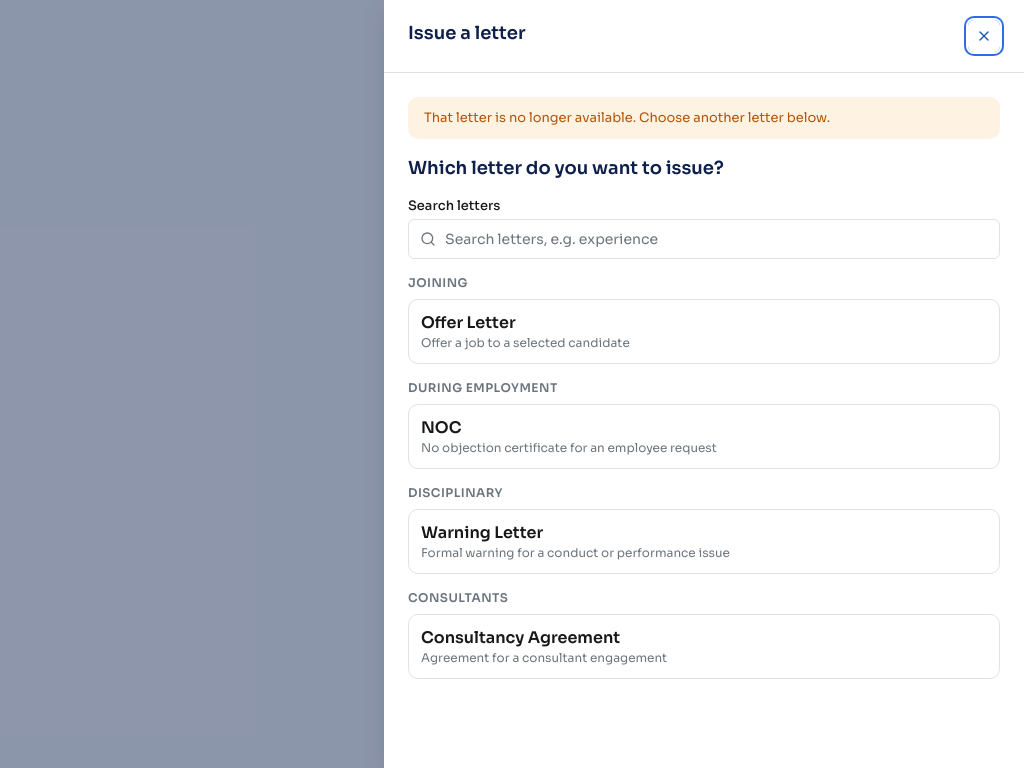
it: choosing a letter › explains an unavailable template and falls back to the chooser
This screenshot has width=1024, height=768.
Expected: the text "That letter is no longer available. Choose another letter below." is shown, [408, 97, 1000, 139]
Expected: the heading "Which letter do you want to issue?" is shown, [408, 157, 724, 179]
Click the button "Warning Letter" at (482, 532), box [408, 509, 1000, 574]
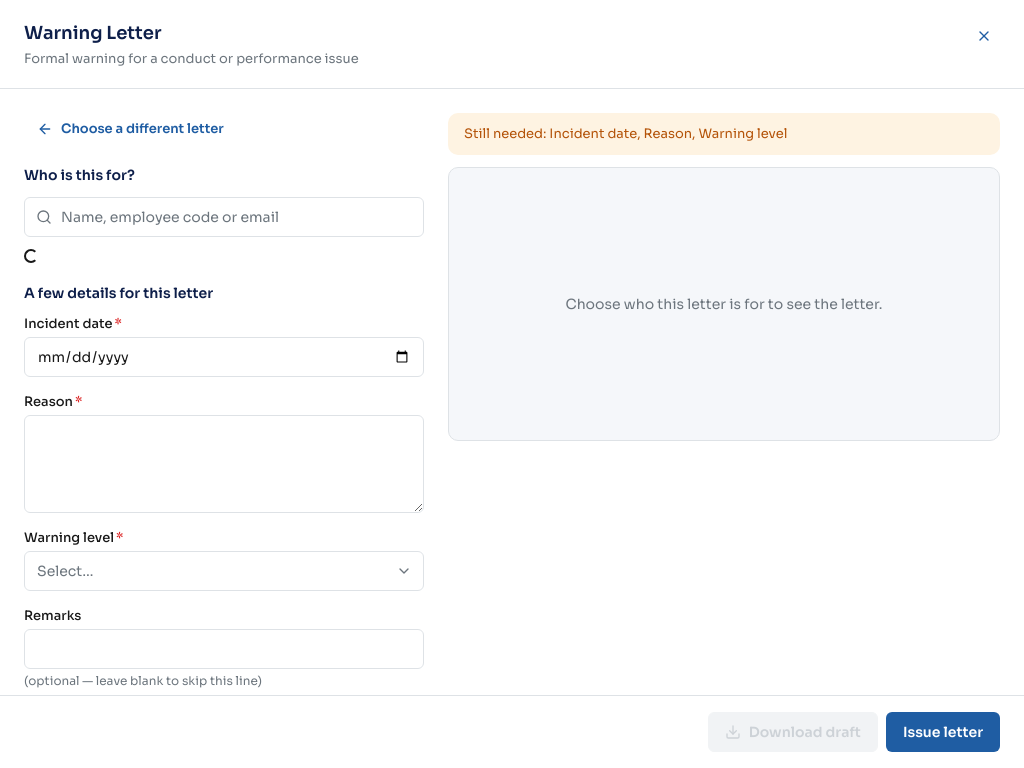
Expected: the date field labelled "Incident date *" is shown, [24, 337, 424, 377]
Expected: the text "no longer available" is gone
Click the button "Choose a different letter" at (130, 129), box [24, 113, 237, 145]
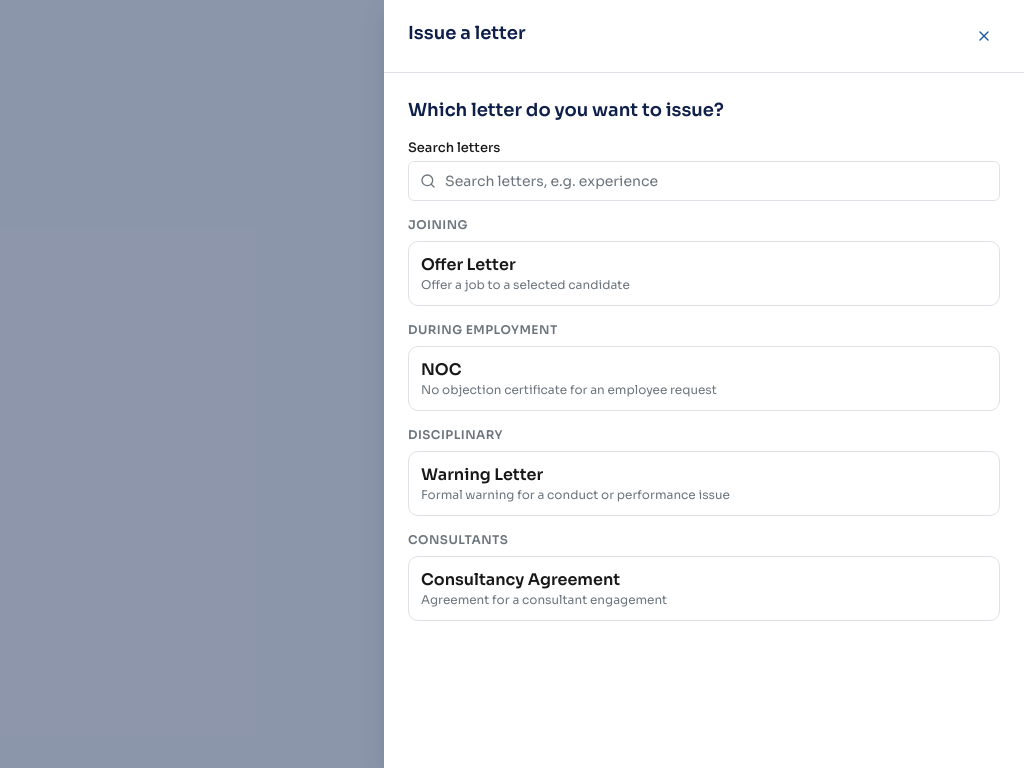
Expected: the text "no longer available" is not shown
Expected: the heading "Which letter do you want to issue?" is shown, [408, 99, 724, 121]
